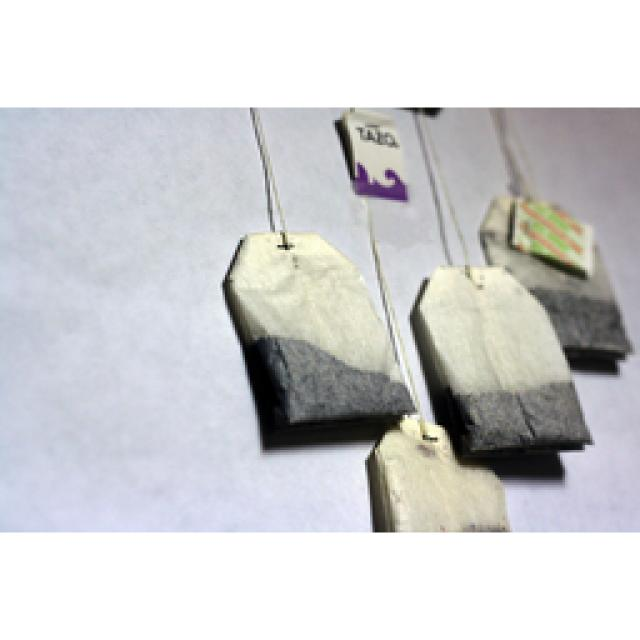tea-bags: (222, 232, 412, 422), (410, 268, 590, 450), (480, 195, 630, 358), (368, 418, 508, 530), (335, 110, 405, 200)
